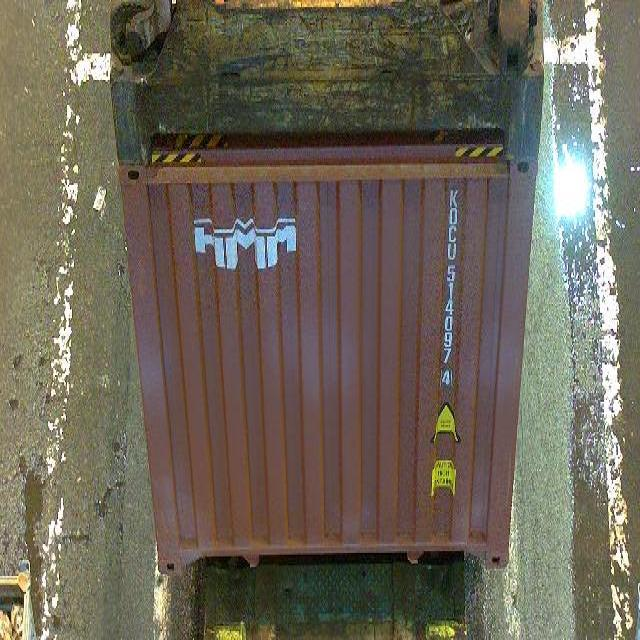container_number: (440, 174, 458, 388)
